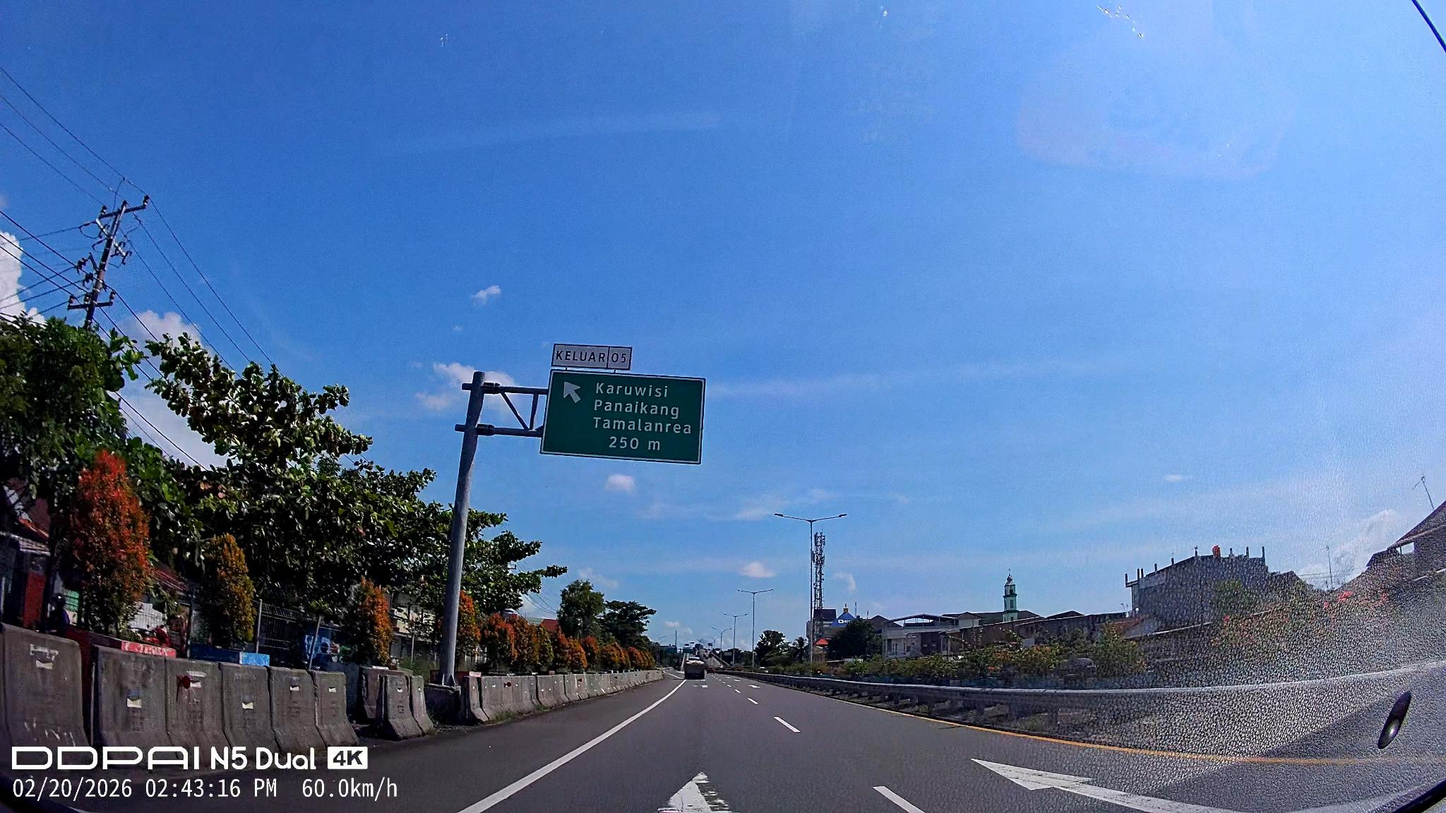rambu_teks: (541, 368, 706, 465)
